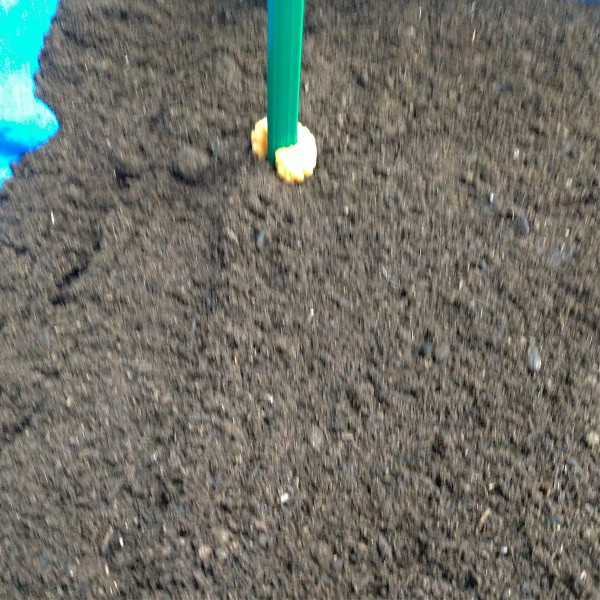eggs: (241, 107, 320, 187)
